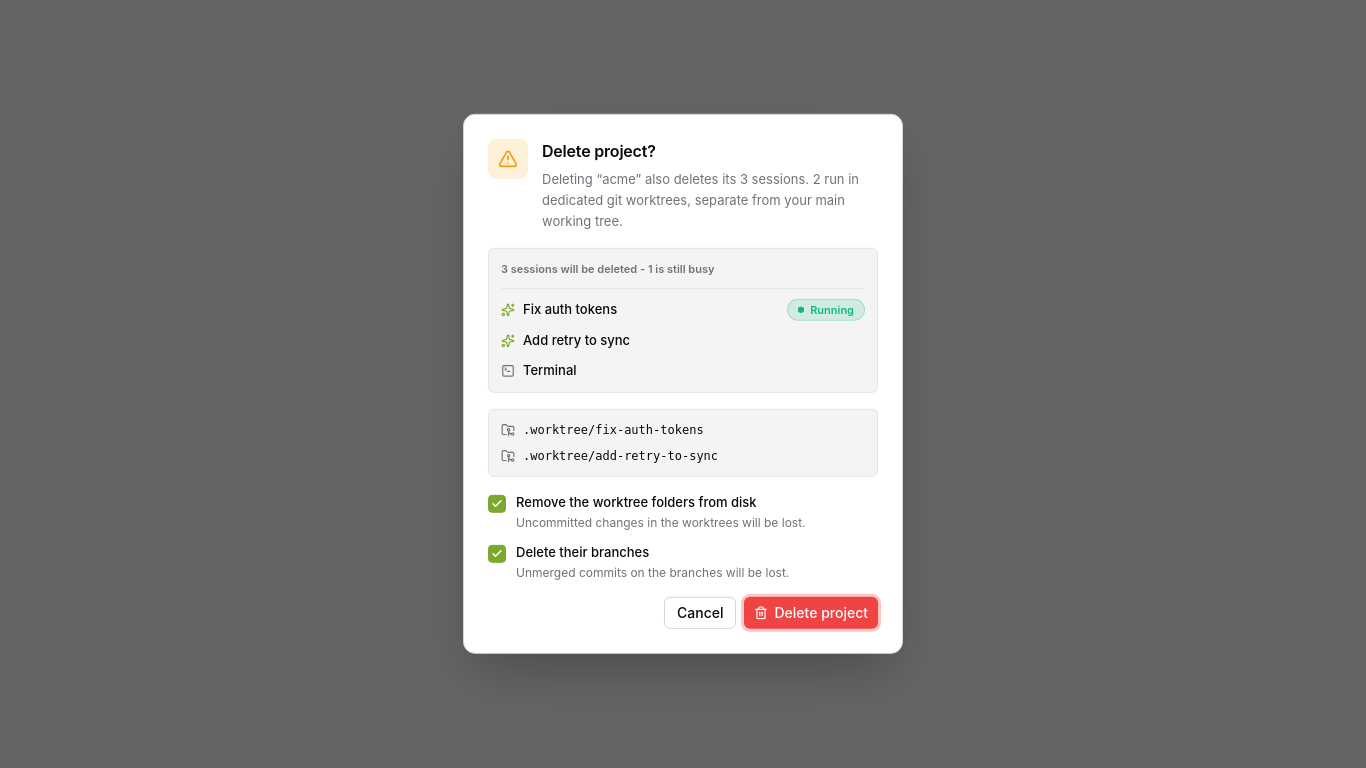
Test case: default choices › keeps the branches when their box is un-ticked
Later steps or results of the test are not shown.
Expected: the dialog is shown, [463,114,903,654]
Click the checkbox in the row of "their branches".
click(497, 554)  # box [488,545,506,563]
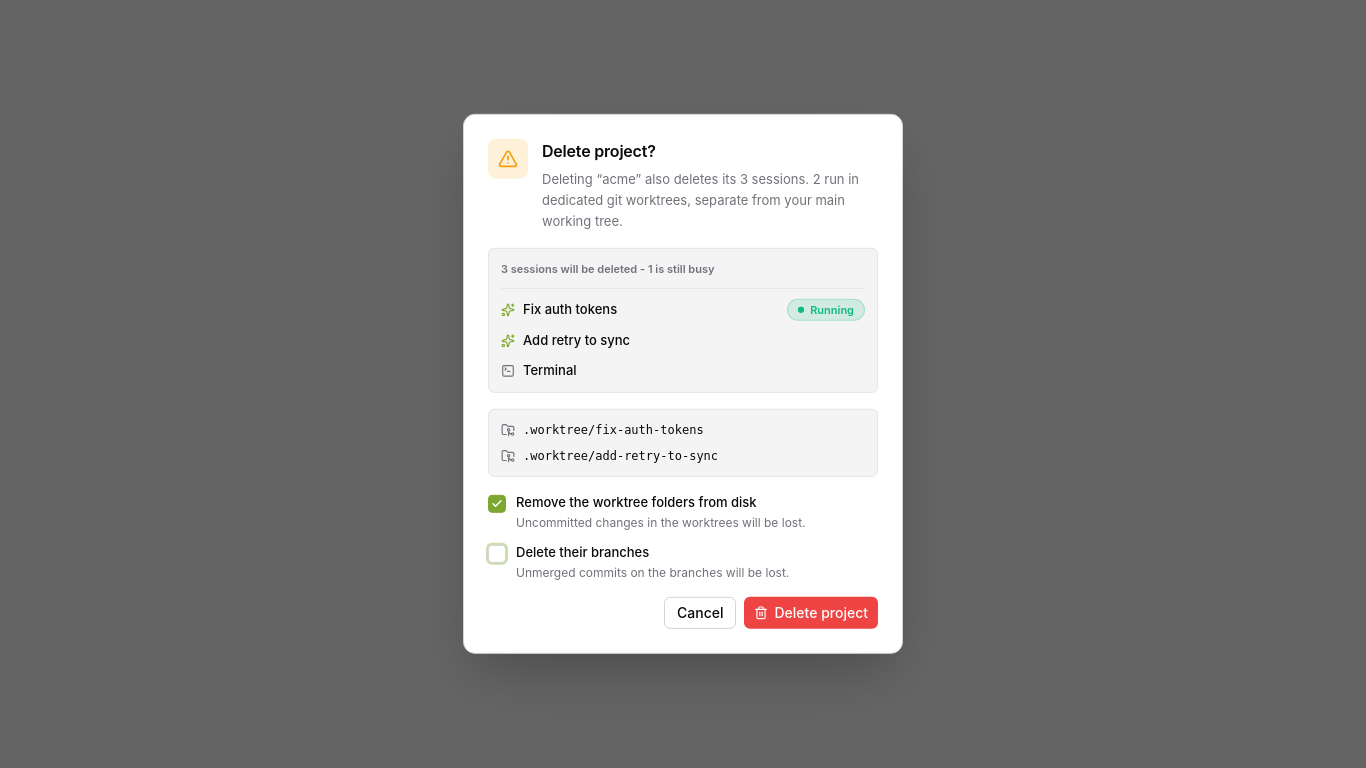
Result: the checkbox in the row of "their branches" is not checked at [488,545,506,563]
